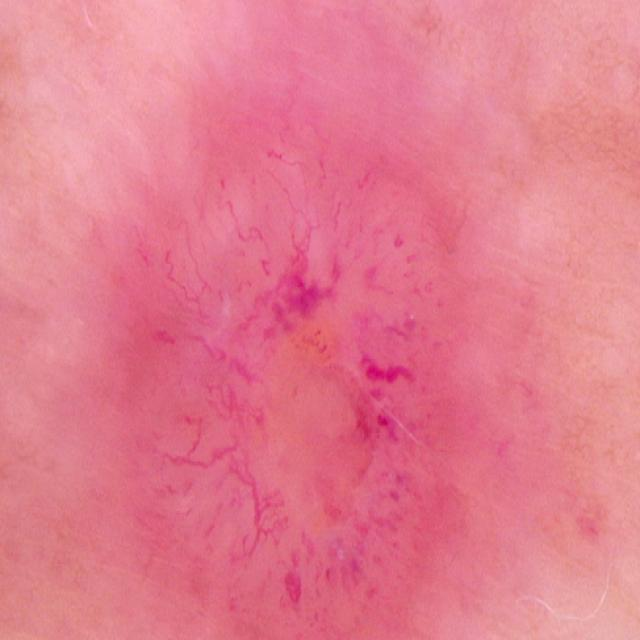Carcinoma: (105, 106, 486, 640)
